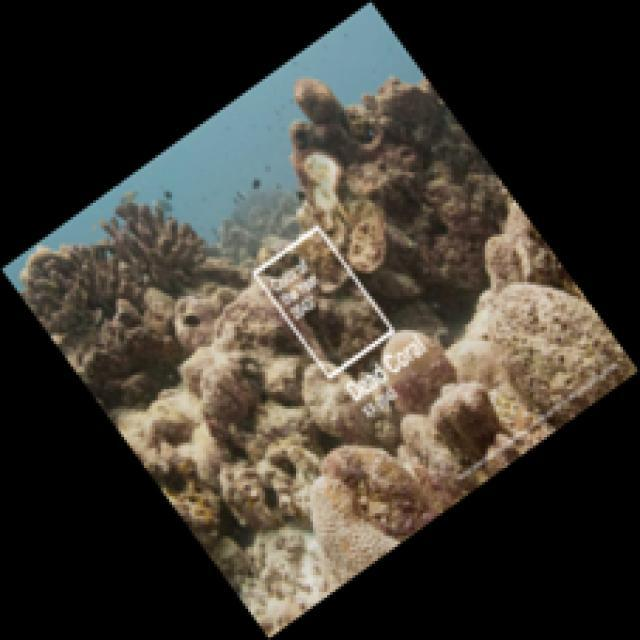Dead Coral: (19, 192, 212, 408), (264, 66, 438, 212), (280, 433, 430, 581), (474, 268, 610, 420)
